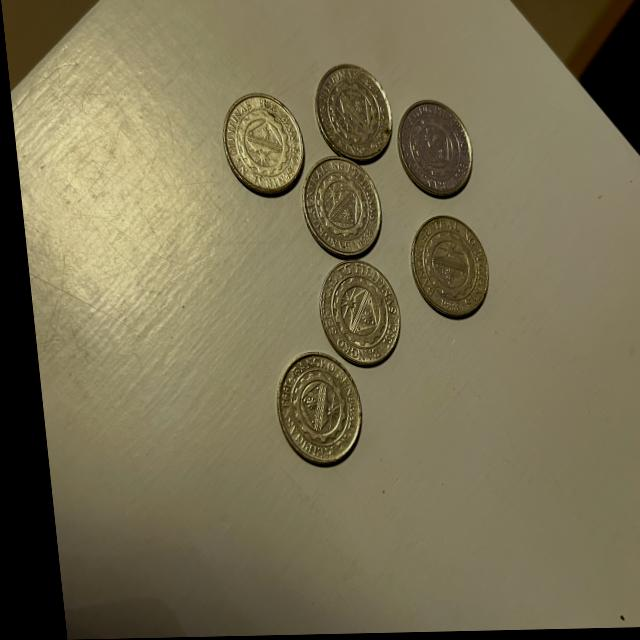1_Old_Back: (273, 368, 346, 451), (314, 269, 385, 354), (224, 105, 293, 185), (413, 228, 478, 306), (317, 75, 380, 148), (406, 114, 460, 185)
